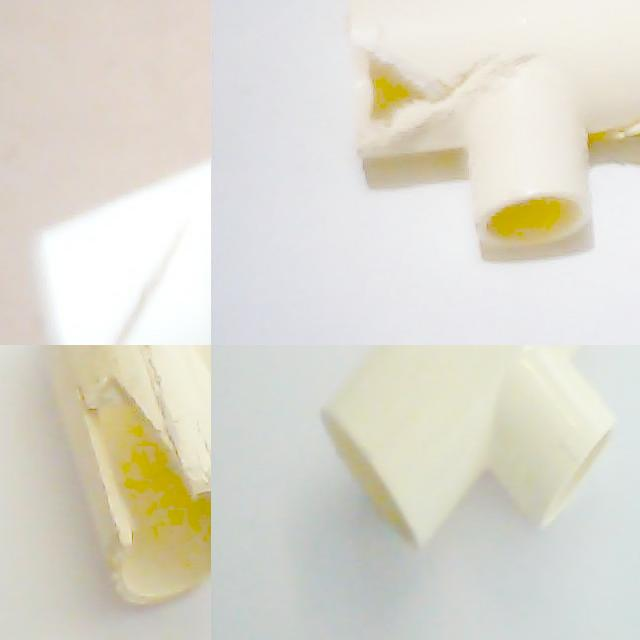Defective: (78, 374, 211, 554), (346, 18, 462, 162), (64, 207, 183, 345), (601, 80, 640, 158)
T Joint: (318, 345, 618, 551), (36, 345, 211, 609)
